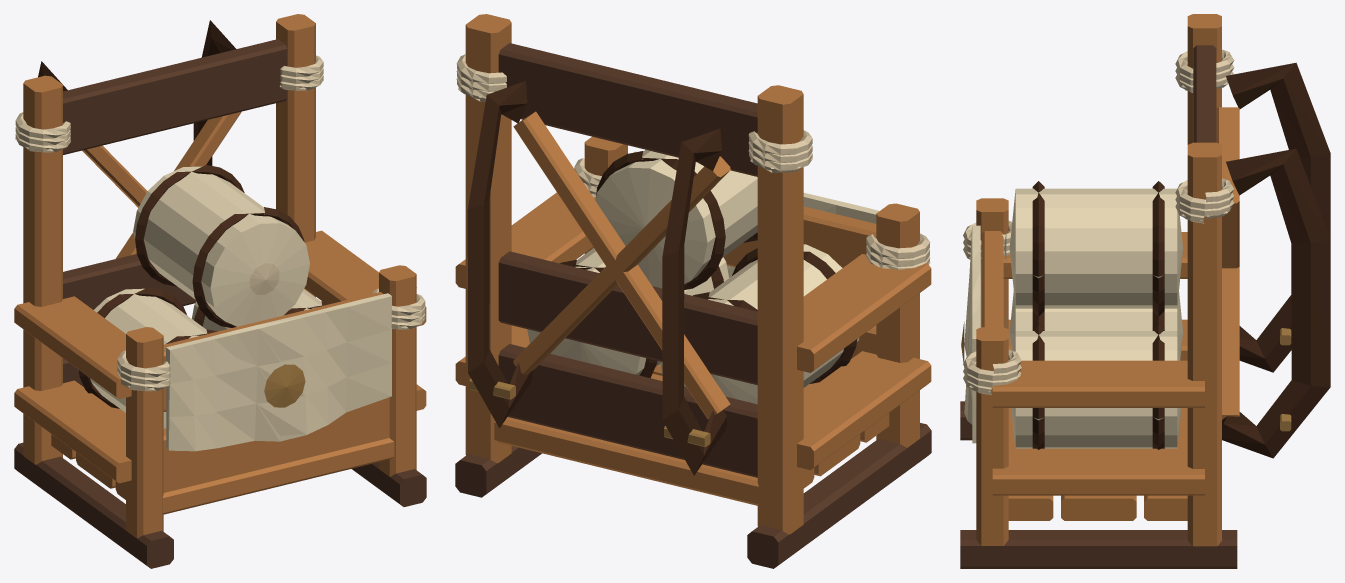
File: prop_trade_pack_textiles_a.glb
The picture shows the model from 3 angles, left to right: view 1: azimuth 30°, elevation 25°; view 2: azimuth 150°, elevation 25°; view 3: azimuth 270°, elevation 25°; orthographic projection. The views are drawn at different scales.
Parts seen in each view (by area): view 1: prop_trade_pack_textiles_a_freight_0, prop_trade_pack_textiles_a_freight_1; view 2: prop_trade_pack_textiles_a_freight_0, prop_trade_pack_textiles_a_freight_1; view 3: prop_trade_pack_textiles_a_freight_0, prop_trade_pack_textiles_a_freight_1.
Boxes of the visible parts, bbox=[...] form: prop_trade_pack_textiles_a_freight_0: bbox=[14, 14, 426, 568]; prop_trade_pack_textiles_a_freight_1: bbox=[15, 80, 423, 448]; prop_trade_pack_textiles_a_freight_0: bbox=[455, 14, 931, 568]; prop_trade_pack_textiles_a_freight_1: bbox=[458, 87, 930, 377]; prop_trade_pack_textiles_a_freight_0: bbox=[960, 14, 1330, 568]; prop_trade_pack_textiles_a_freight_1: bbox=[964, 82, 1227, 443].
Bounding box in the file's own units: 0.81 × 0.99 × 0.8028.
